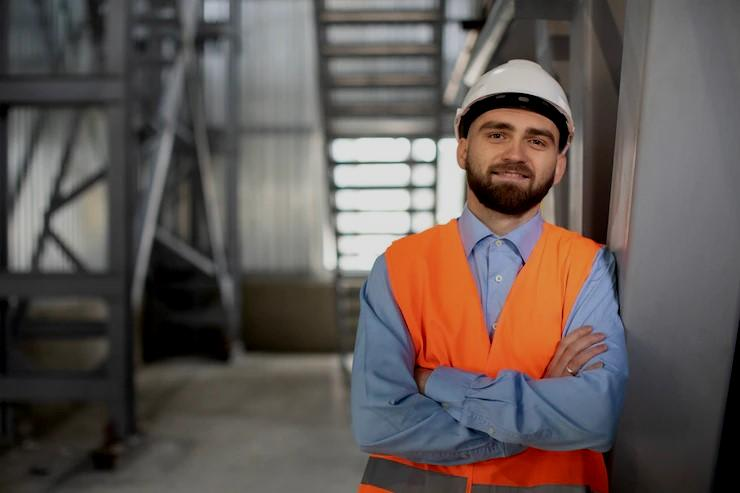helmet: (447, 52, 580, 217)
reflective: (343, 211, 638, 493)
